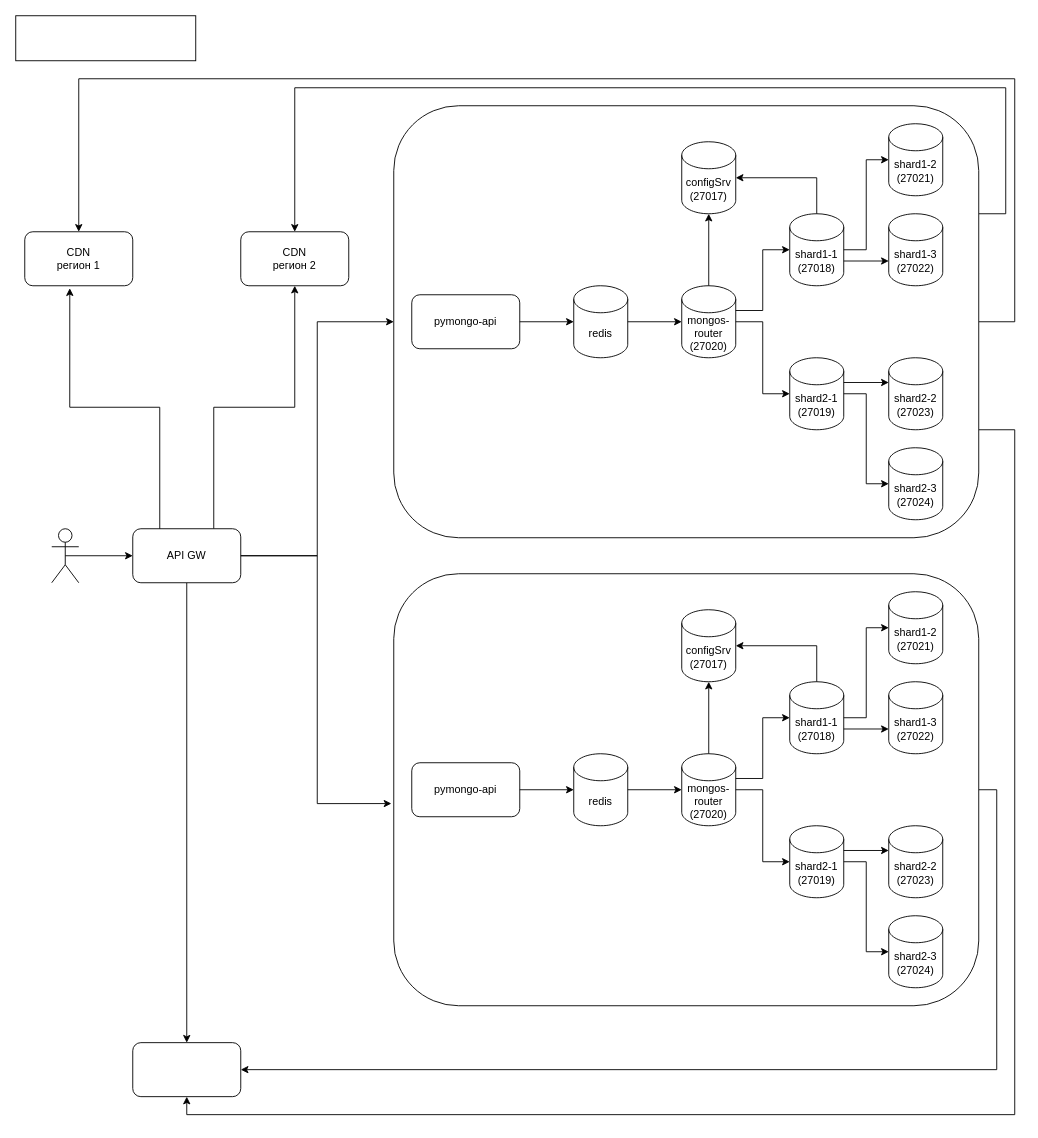
Some shapes in this 1038 by 1138 pixel diagram are drawn without their labels. The shapes that lost their labels are listed below. From the top down, each one's centre as x and y in pixels, then its label:
point 105,38: Задание 6. Шардирование + Репликация + Кеширование + SD_APIGW + CDN
point 65,555: Actor
point 186,1069: Consul
